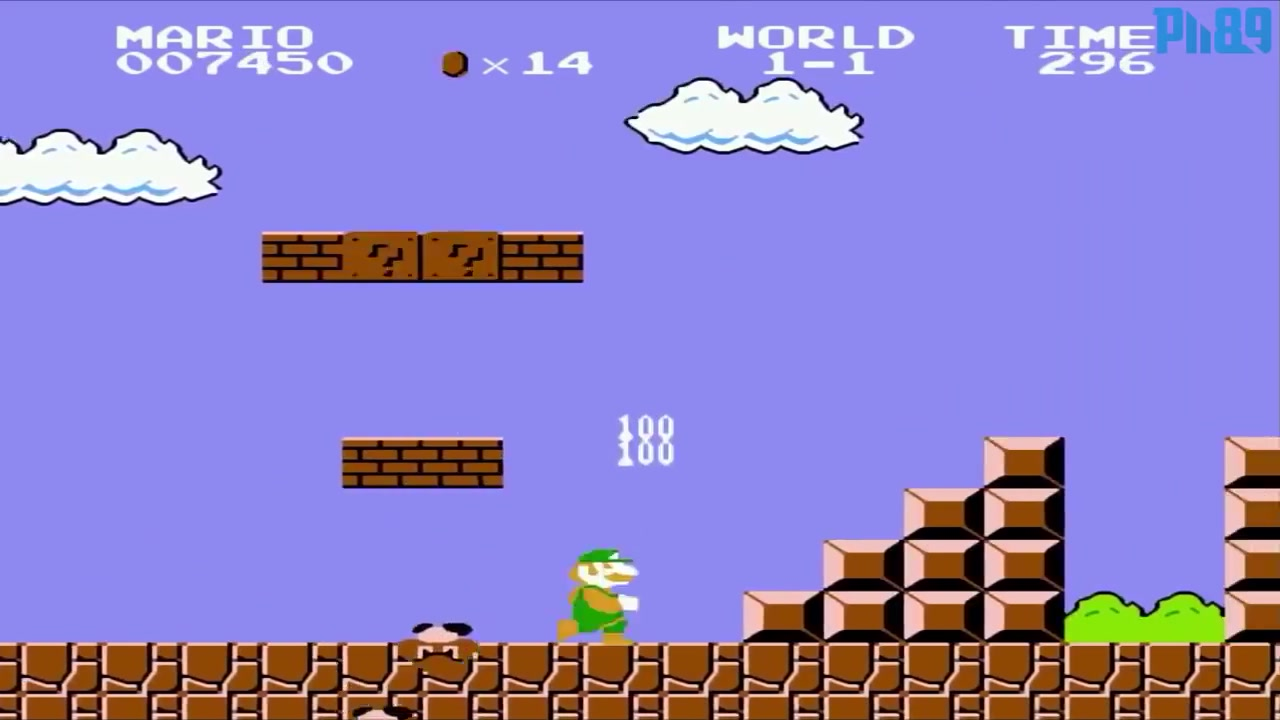mario: (546, 544, 645, 646)
